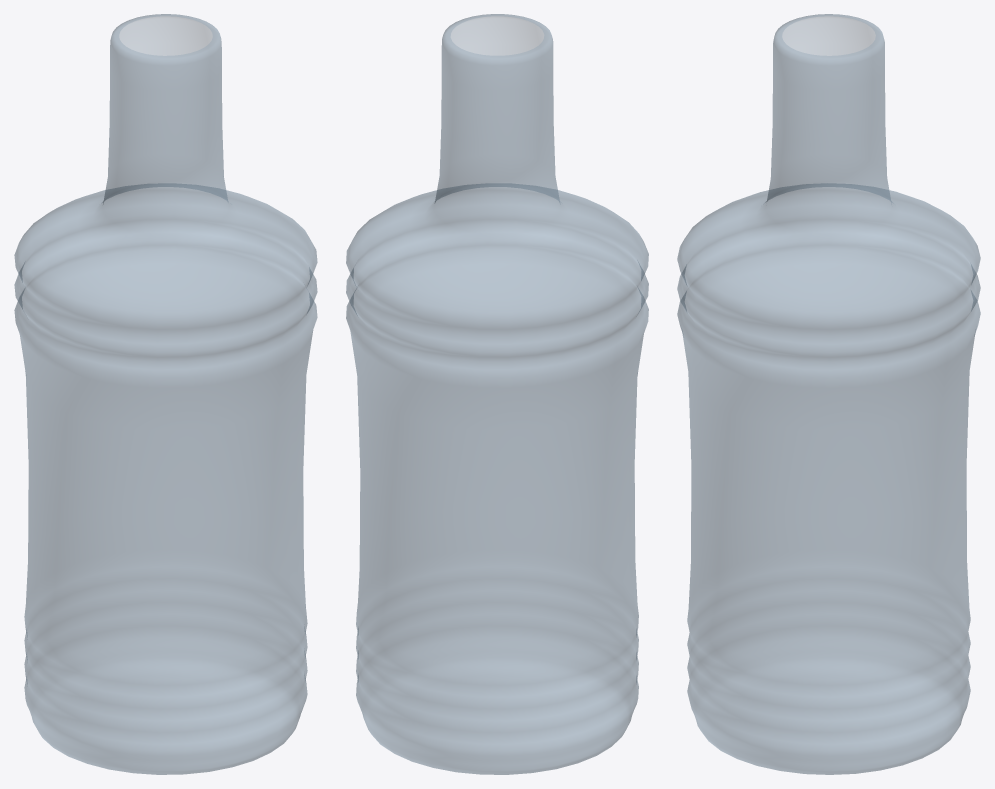
Rendered from glass_bottle.gltf.
3 views of the same model, side by side, from view 1: azimuth 30°, elevation 25°; view 2: azimuth 150°, elevation 25°; view 3: azimuth 270°, elevation 25° (orthographic).
Parts seen in each view (by area): view 1: Plane_0; view 2: Plane_0; view 3: Plane_0.
Boxes of the visible parts, box(x1,y1,x2,y2) form: Plane_0: box(14, 14, 317, 774); Plane_0: box(346, 14, 648, 774); Plane_0: box(677, 14, 980, 774).
Bounding box in the file's own units: 0.0598 × 0.1499 × 0.0598.
